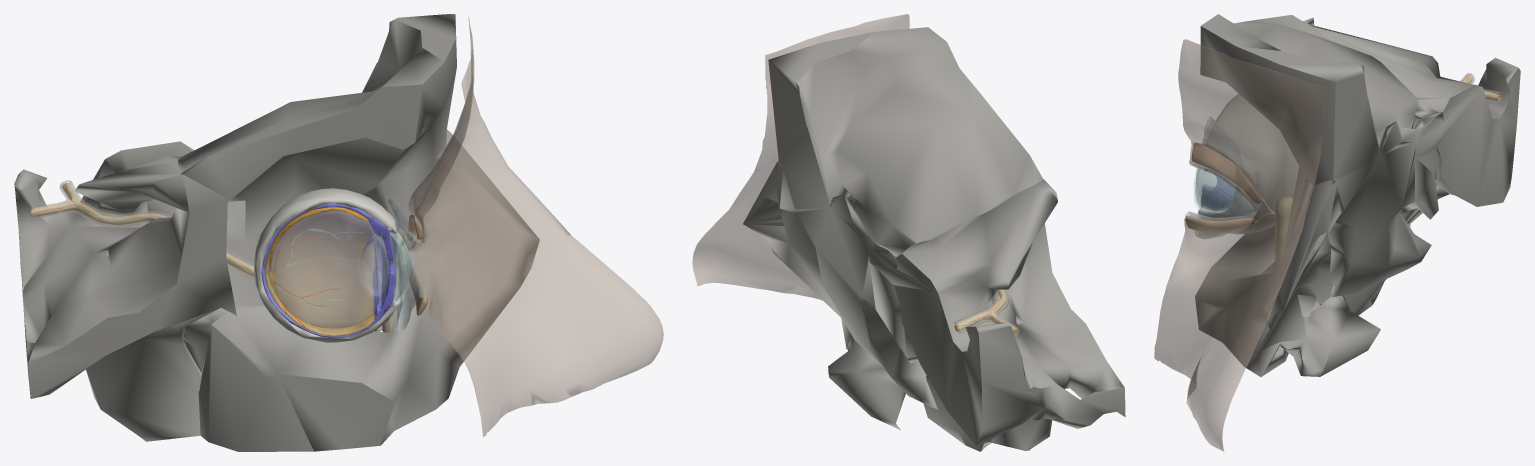
The model's file is eye-anatomy-lite.glb.
3 views of the same model, side by side, from view 1: azimuth 30°, elevation 25°; view 2: azimuth 150°, elevation 25°; view 3: azimuth 270°, elevation 25° (orthographic). The views are drawn at different scales.
Visible parts, largest first — view 1: Bones10_Bones10_0, Skin_Skin_0, Choroid_Choroid_0, Optic_part_of_right_retina_Optic_part_of_right_retina_0, Glasvocht_Glasvocht_0, Sclera_Sclera_0, Right_optic_nerve2_Right_optic_nerve2_0, Right_optic_nerve1_Right_optic_nerve1_0, Tarsal_plate_upper_eyelid_Tarsal_plate_upper_eyelid_0, Lens_Lens_0, Anterior_chamber_Anterior_chamber_0; view 2: Bones10_Bones10_0, Skin_Skin_0, Right_optic_nerve2_Right_optic_nerve2_0, Right_optic_nerve1_Right_optic_nerve1_0; view 3: Bones10_Bones10_0, Skin_Skin_0, Sclera_Sclera_0, Tarsal_plate_upper_eyelid_Tarsal_plate_upper_eyelid_0, Anterior_chamber_Anterior_chamber_0, Cornea1_Cornea1_0, Choroid_Choroid_0.
Boxes of the visible parts, <box> form: Bones10_Bones10_0: <box>14,14,539,451</box>; Skin_Skin_0: <box>388,17,663,436</box>; Choroid_Choroid_0: <box>261,203,396,338</box>; Optic_part_of_right_retina_Optic_part_of_right_retina_0: <box>265,207,375,336</box>; Glasvocht_Glasvocht_0: <box>268,208,377,328</box>; Sclera_Sclera_0: <box>254,188,400,342</box>; Right_optic_nerve2_Right_optic_nerve2_0: <box>31,180,254,280</box>; Right_optic_nerve1_Right_optic_nerve1_0: <box>31,183,275,283</box>; Tarsal_plate_upper_eyelid_Tarsal_plate_upper_eyelid_0: <box>375,215,427,332</box>; Lens_Lens_0: <box>361,235,389,295</box>; Anterior_chamber_Anterior_chamber_0: <box>389,232,410,302</box>; Bones10_Bones10_0: <box>743,27,1125,451</box>; Skin_Skin_0: <box>692,14,909,300</box>; Right_optic_nerve2_Right_optic_nerve2_0: <box>953,289,1019,335</box>; Right_optic_nerve1_Right_optic_nerve1_0: <box>954,289,1018,334</box>; Bones10_Bones10_0: <box>1195,14,1520,376</box>; Skin_Skin_0: <box>1154,39,1326,451</box>; Sclera_Sclera_0: <box>1198,94,1299,234</box>; Tarsal_plate_upper_eyelid_Tarsal_plate_upper_eyelid_0: <box>1185,142,1292,260</box>; Anterior_chamber_Anterior_chamber_0: <box>1195,167,1235,211</box>; Cornea1_Cornea1_0: <box>1193,168,1236,213</box>; Choroid_Choroid_0: <box>1201,169,1235,211</box>.
Bounding box in the file's own units: 109 × 68.81 × 66.82.
